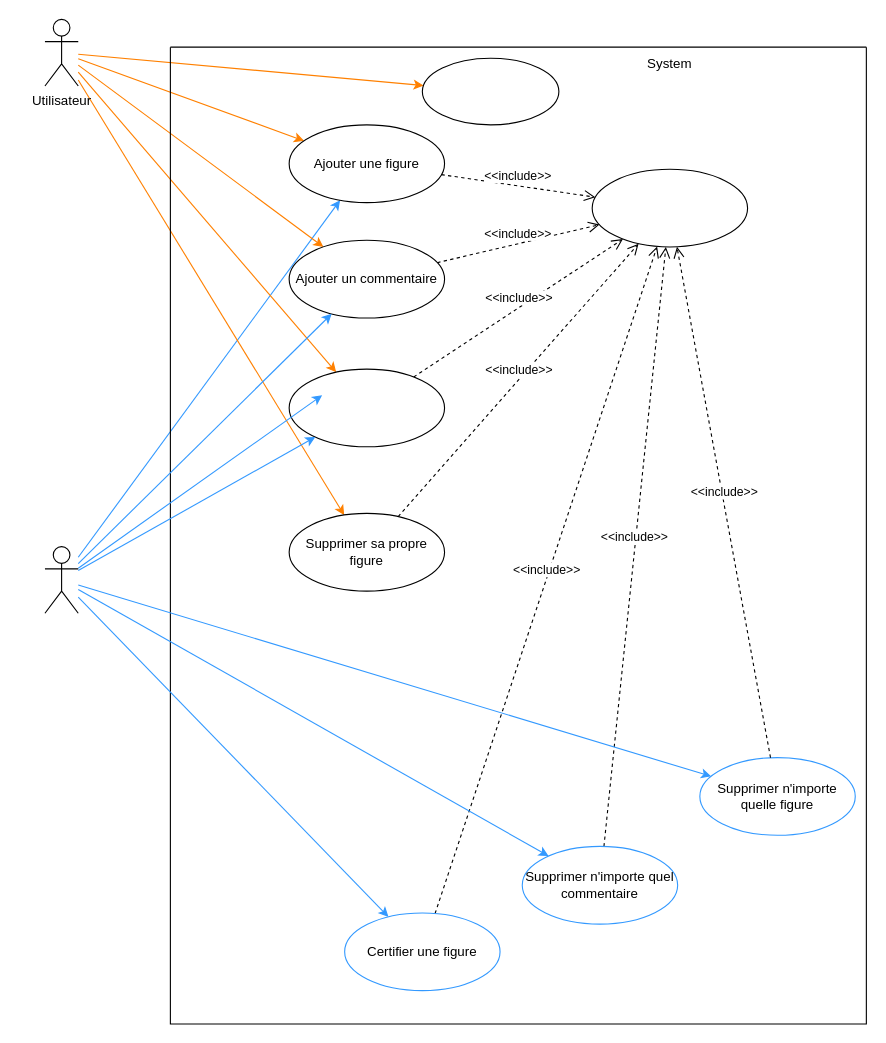
Image size: 886x1043. Some labels were removed from this diagram. Here are the shapes that lost their labels. From the top down, the centre of each, then its label:
(x=490, y=91): S'inscrire
(x=669, y=207): S'authentifier
(x=366, y=407): Supprimer son propre commentaire
(x=61, y=579): Administrateur
